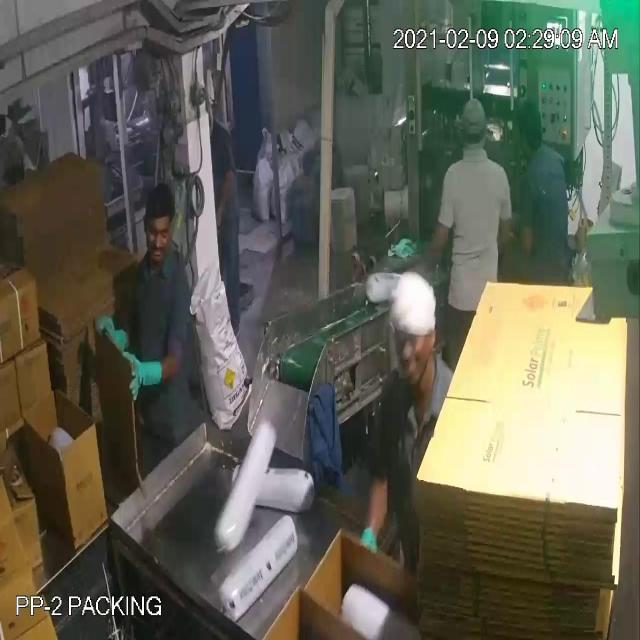gloves: (123, 343, 167, 399), (90, 305, 128, 352)
no-gloves: (210, 159, 239, 235), (419, 220, 449, 282)
